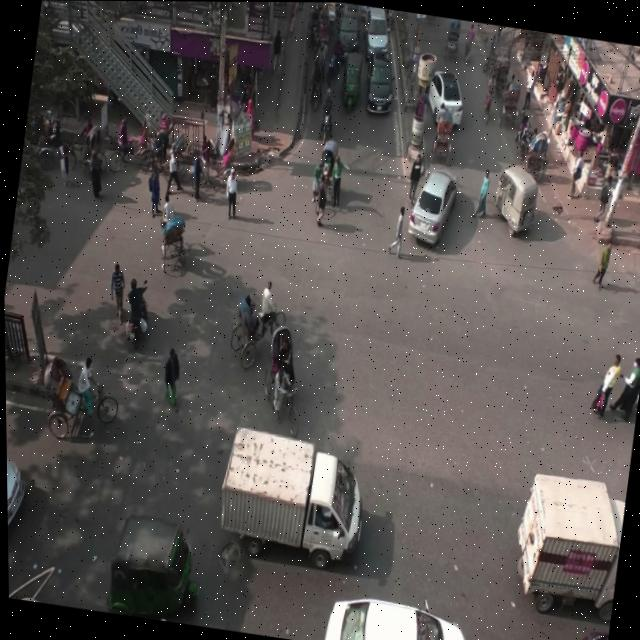cng: (98, 494, 208, 625), (480, 151, 546, 257), (330, 40, 369, 124)
rikshaw: (27, 346, 126, 454), (252, 312, 325, 436), (220, 269, 288, 373), (144, 177, 199, 284), (424, 96, 464, 185), (189, 124, 239, 193), (309, 133, 348, 211), (486, 69, 529, 136), (513, 114, 556, 176)
